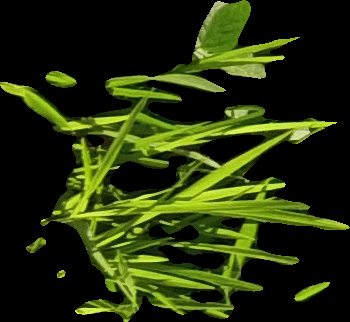grass: (1, 1, 348, 320)
